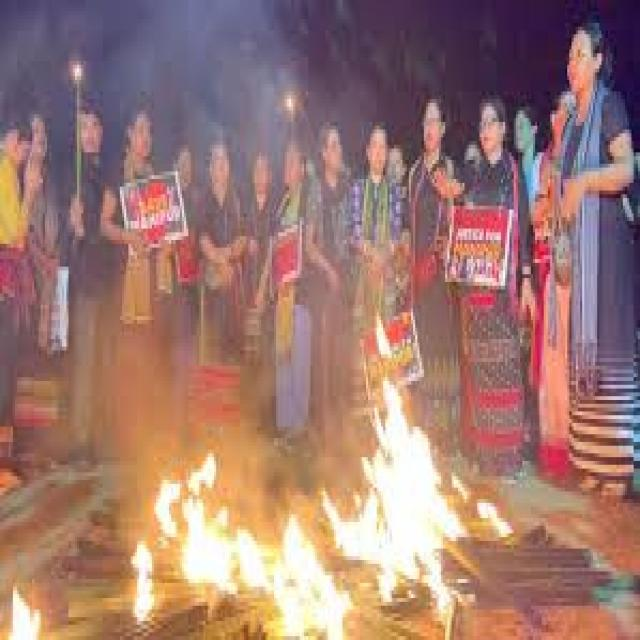fire: (360, 315, 464, 612), (272, 514, 351, 640), (321, 495, 395, 606), (181, 451, 237, 596), (130, 539, 154, 622), (235, 527, 265, 589), (155, 477, 180, 546), (12, 581, 40, 640), (477, 499, 511, 538)
